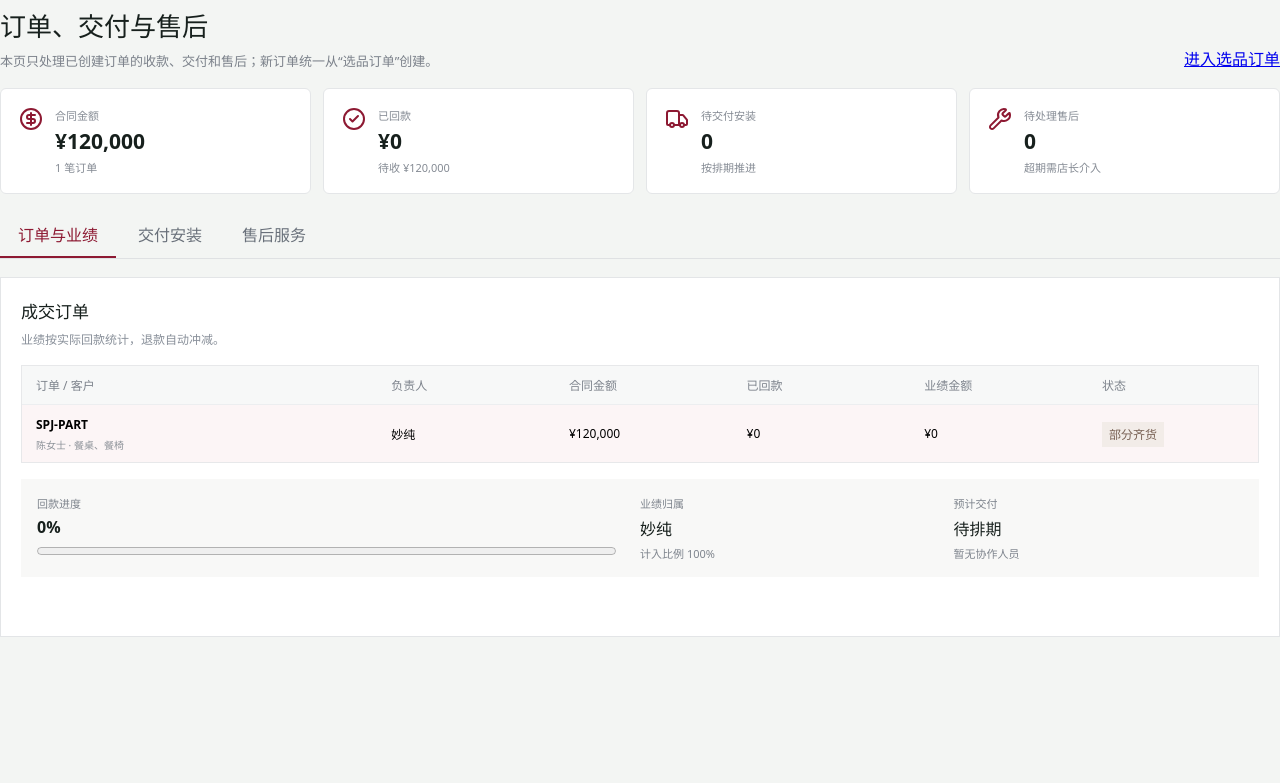
LifecyclePage › allows a partial order to deliver only ready products
Click the tab "交付安装" at (170, 235), box 120,212 -> 220,258
(page scrolled)
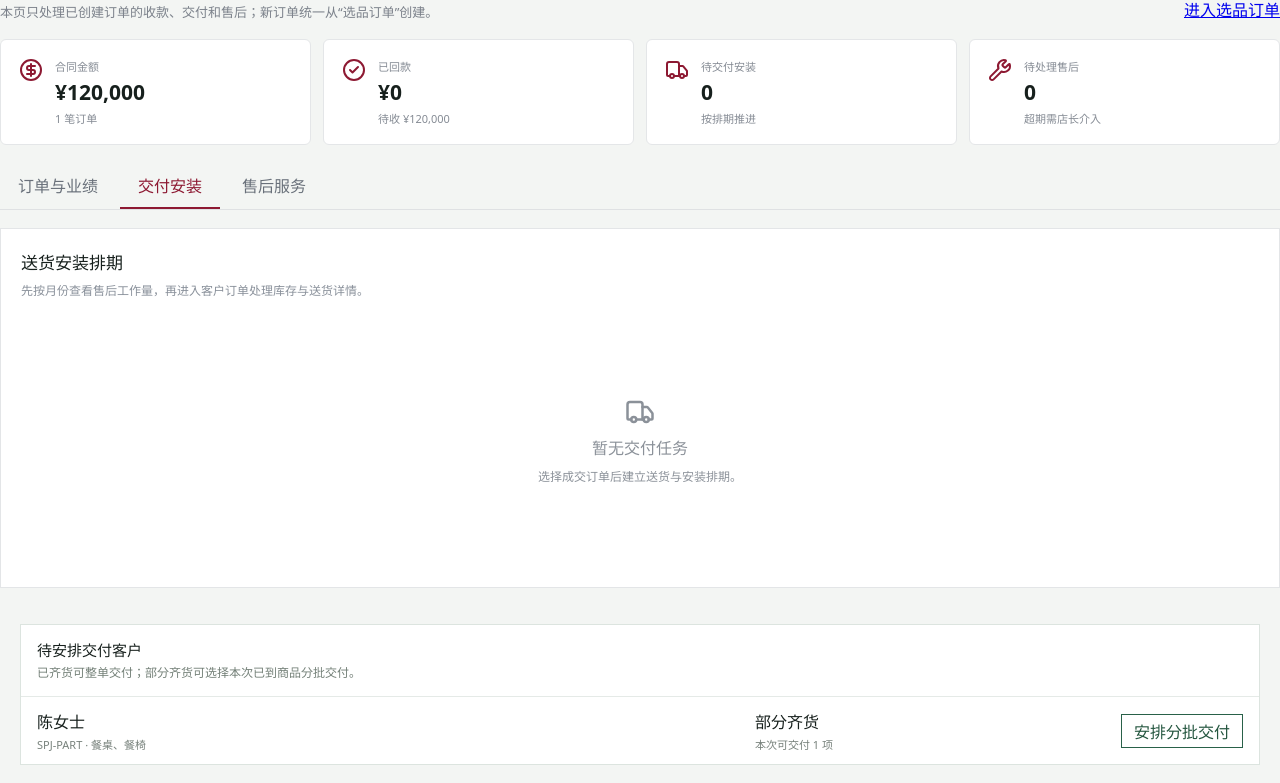
Click the button "安排分批交付" at (1182, 730), box 1121,714 -> 1243,748
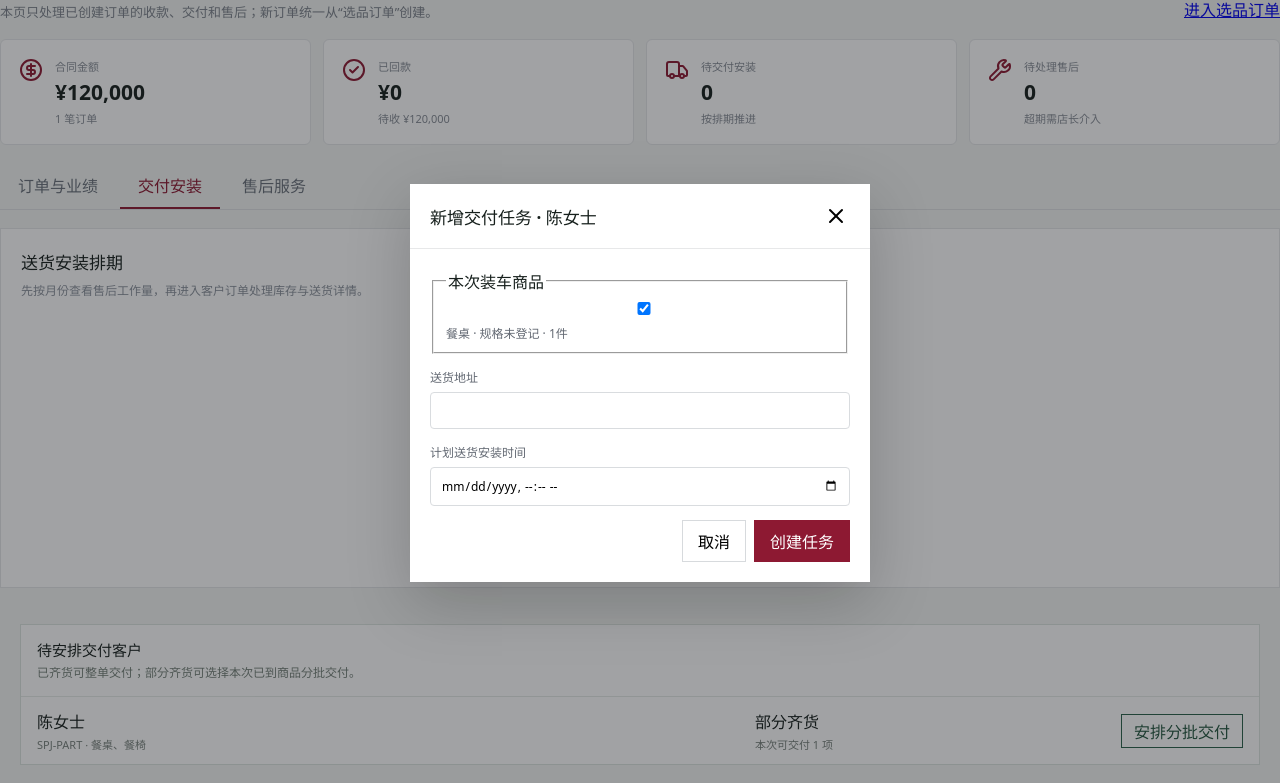
Result: the text "餐桌 · 规格未登记 · 1件" is shown at 446,299 -> 834,342
